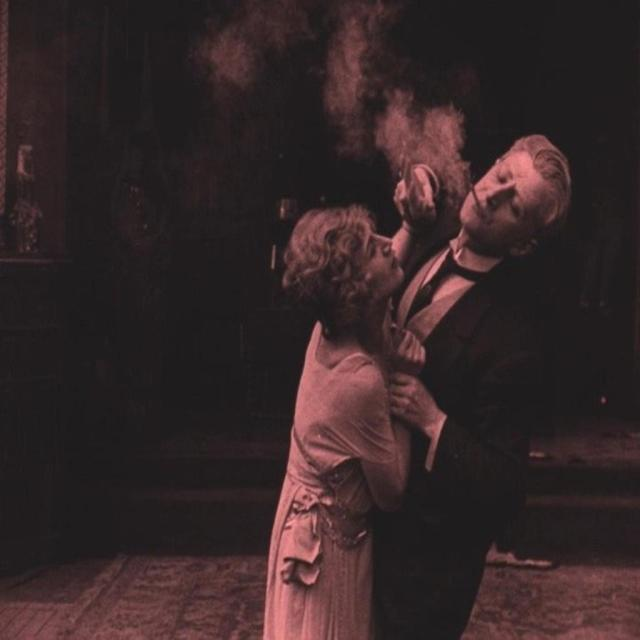smoking: (469, 167, 484, 246)
